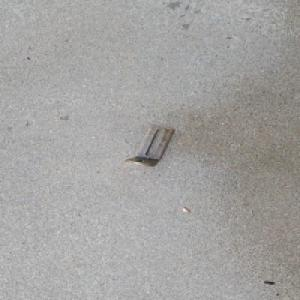MetalPart: (122, 125, 173, 167)
